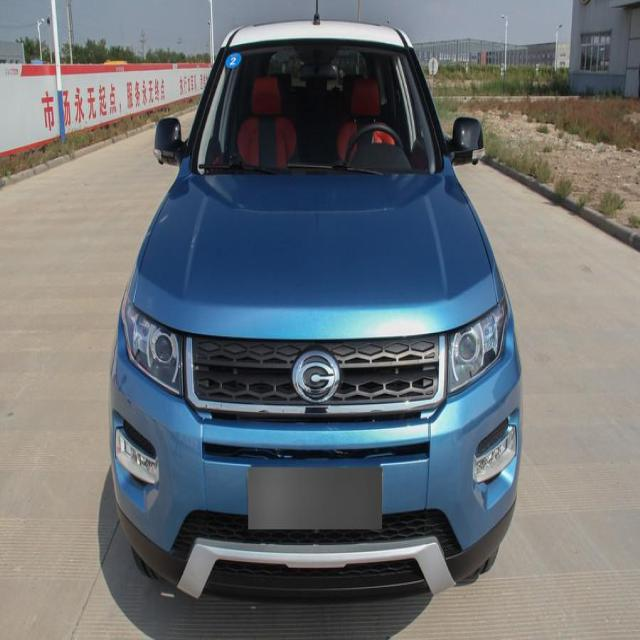front_bumper: (104, 360, 526, 598)
front_glass: (190, 40, 444, 174)
front_left_side_light: (444, 297, 511, 398)
front_left_side_mirror: (448, 112, 486, 170)
front_right_side_light: (119, 286, 183, 400)
front_right_side_mirror: (153, 111, 185, 169)
